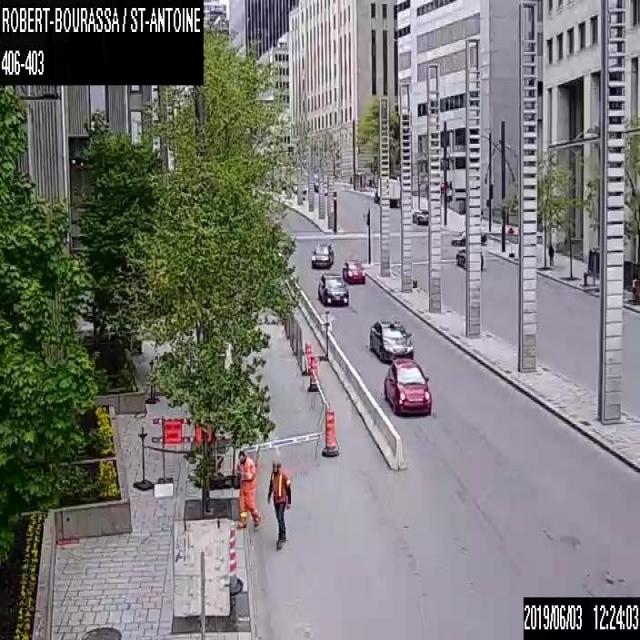construction: (173, 516, 229, 639), (152, 414, 224, 481), (228, 525, 243, 596), (321, 406, 340, 458), (307, 355, 319, 391), (301, 339, 312, 374), (507, 226, 514, 256)
pedestrian: (266, 458, 290, 548), (233, 449, 259, 525), (548, 242, 554, 266)
vehicle: (382, 356, 433, 416), (369, 318, 414, 360), (316, 272, 348, 304), (373, 176, 399, 206), (311, 240, 333, 269), (455, 248, 483, 270), (342, 257, 364, 283), (451, 230, 486, 246), (412, 207, 428, 224)
